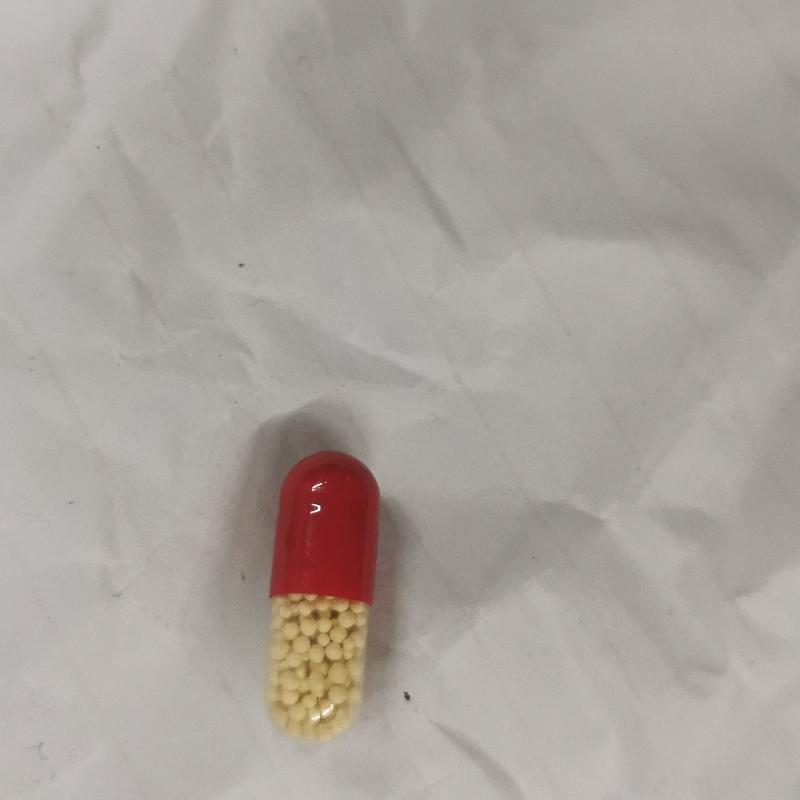pills: (261, 444, 383, 745)
